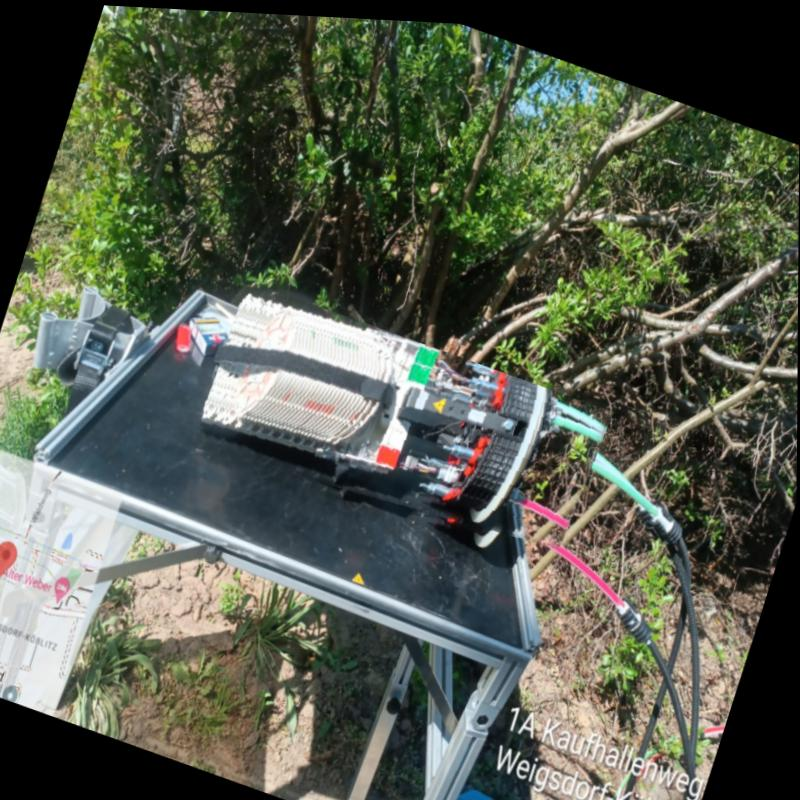NT-Muffen: (193, 276, 616, 576)
